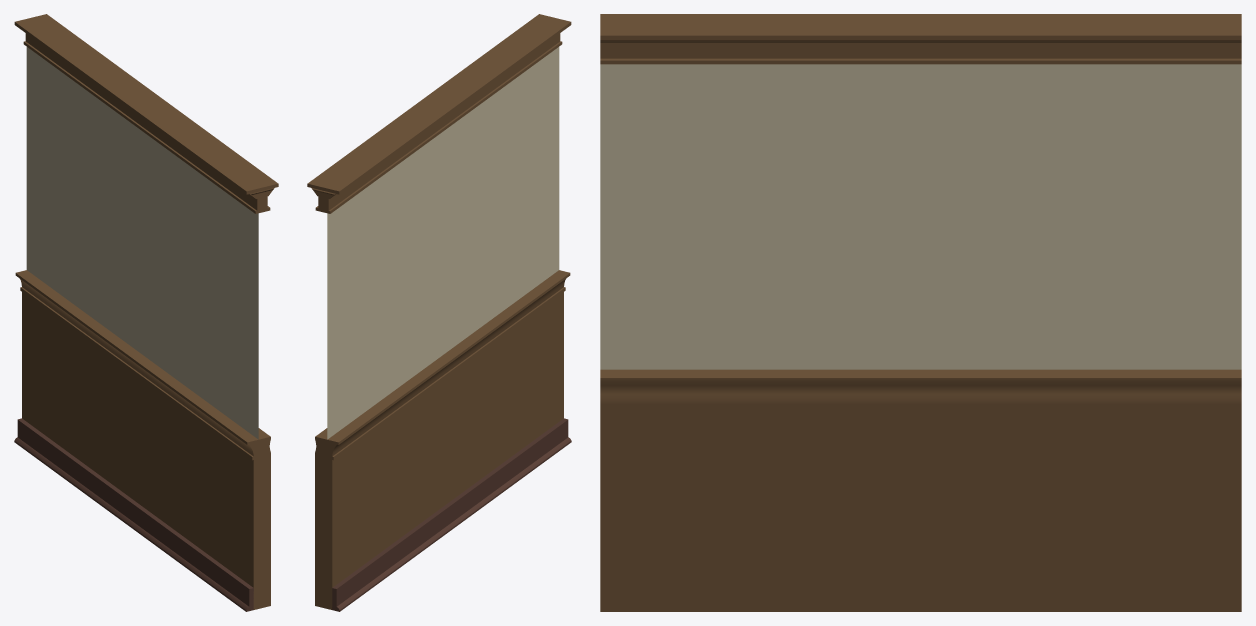
File: SM_Wall_001.fbx
3 renders of one model, left to right at view 1: azimuth 30°, elevation 25°; view 2: azimuth 150°, elevation 25°; view 3: azimuth 270°, elevation 25°, orthographic. The views are drawn at different scales.
Visible parts, largest first — view 1: pCube107; view 2: pCube107; view 3: pCube107.
Boxes of the visible parts, x1,y1,x2,y2 form: pCube107: (14, 14, 278, 611); pCube107: (307, 14, 571, 611); pCube107: (600, 14, 1241, 611).
Size of the model in its own units: 24.5 by 305 by 305.
